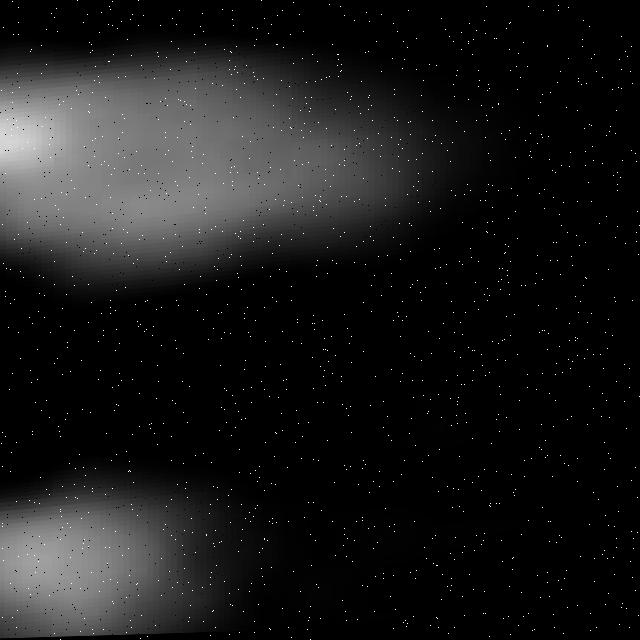person: (1, 5, 479, 339), (1, 478, 279, 640)
